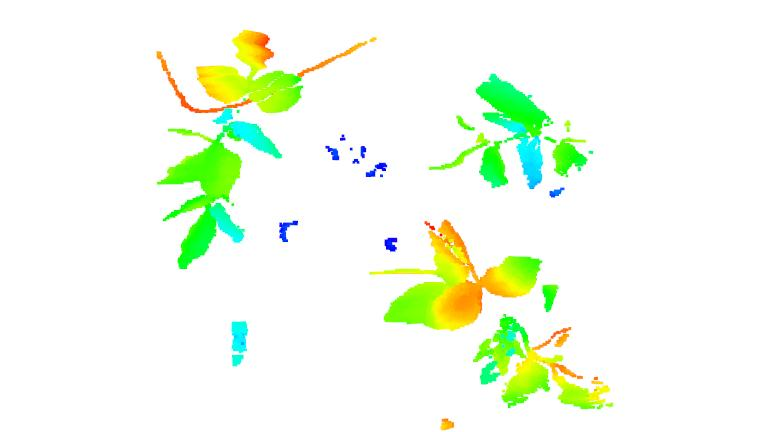mungbean: (388, 216, 621, 415), (156, 25, 306, 269), (426, 72, 594, 189)
